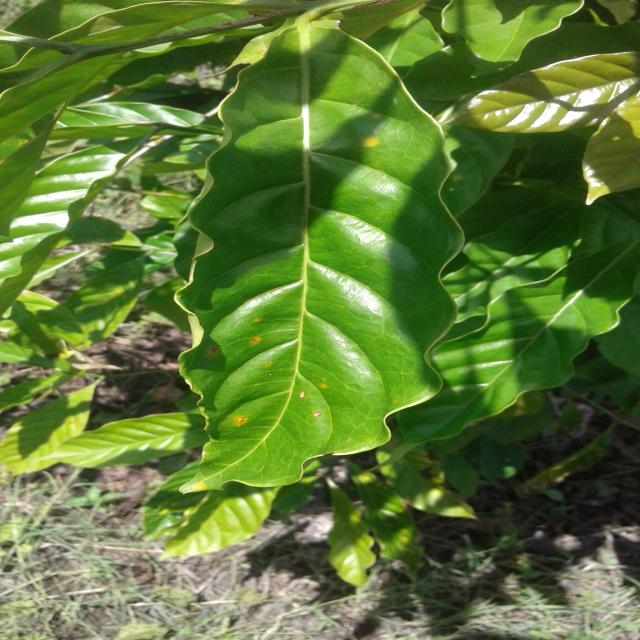Enfermedad-Roya: (175, 29, 482, 501)
